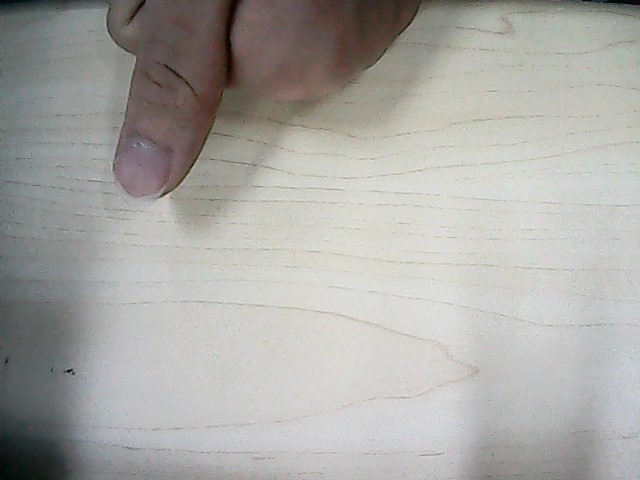nail: (111, 136, 176, 201)
